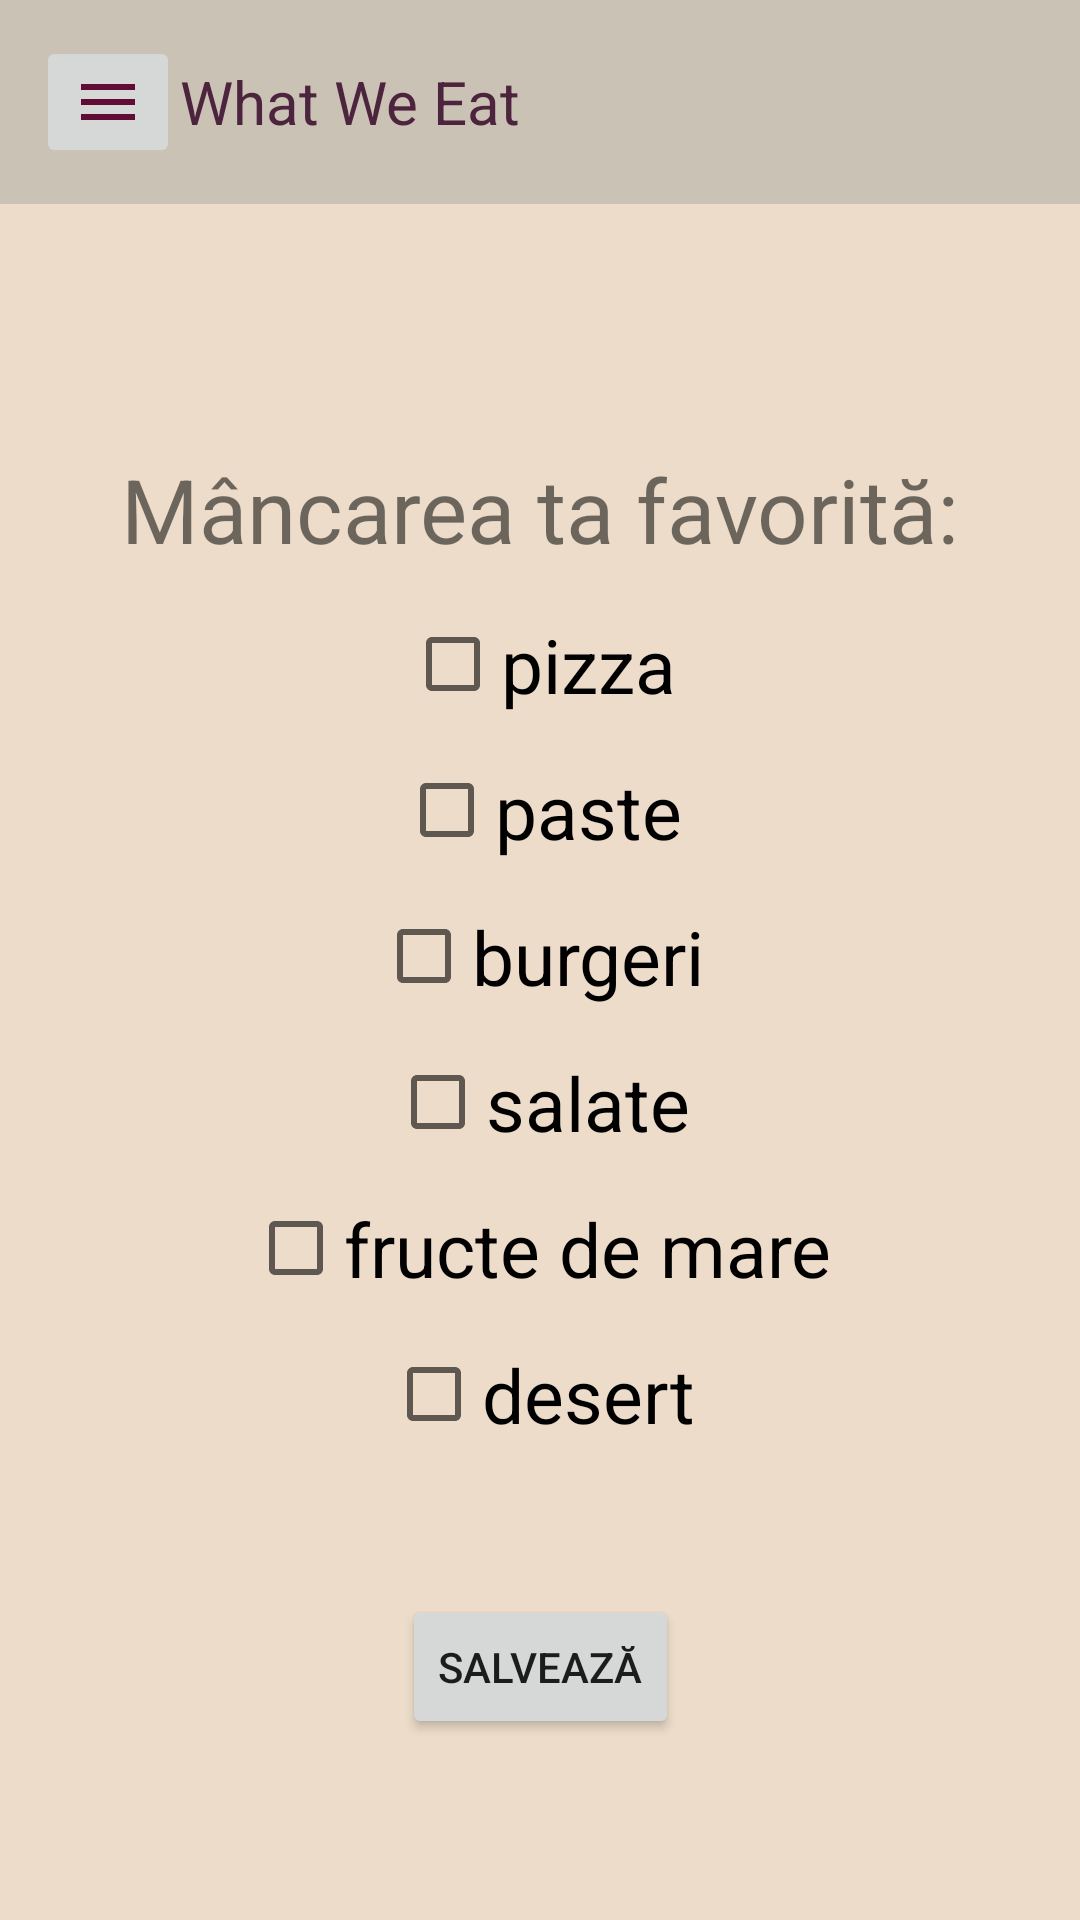

Screen size 1080w x 1920h. Icon name, then its box in pixels as (x1, y1, x2, y2):
menu: (48, 54, 168, 150)
